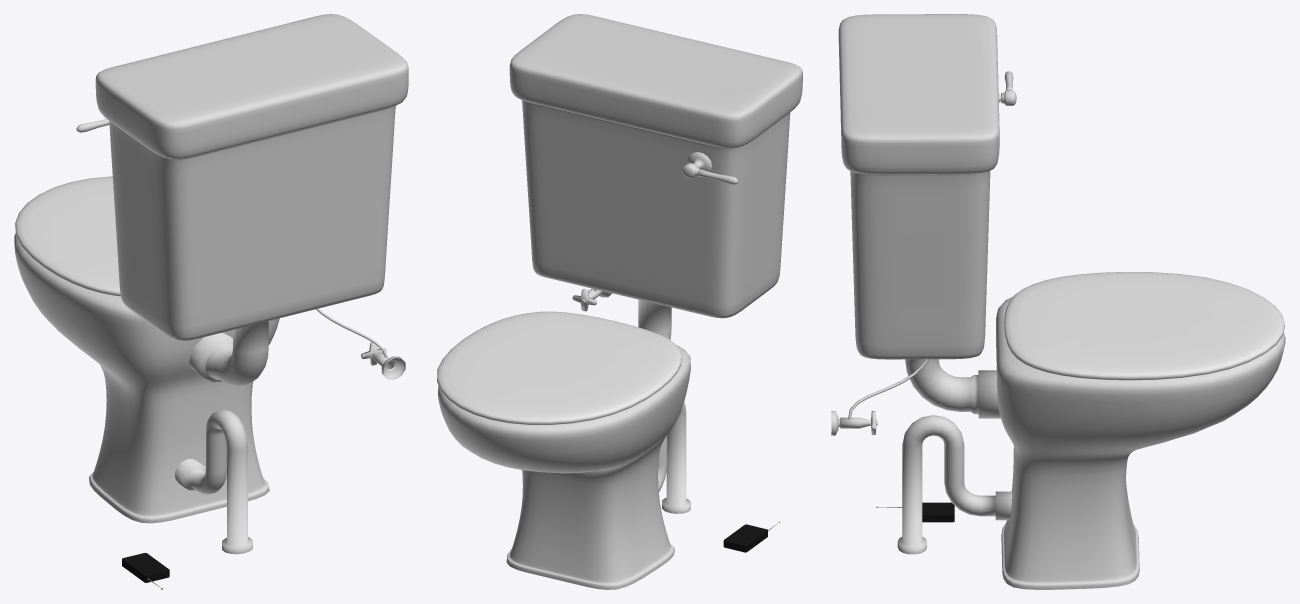
Rendered from toilet.glb.
3 renders of one model, left to right at view 1: azimuth 30°, elevation 25°; view 2: azimuth 150°, elevation 25°; view 3: azimuth 270°, elevation 25°, orthographic. The views are drawn at different scales.
Visible parts, largest first — view 1: Plane.156, Plane.158, Cone.001; view 2: Plane.156, Plane.158, Cone.001; view 3: Plane.156, Plane.158, Cone.001.
Part boxes in pixels (x1=…): Plane.156: x1=14, y1=14, x2=408, y2=554; Plane.158: x1=15, y1=176, x2=120, y2=296; Cone.001: x1=122, y1=553, x2=169, y2=589; Plane.156: x1=438, y1=14, x2=802, y2=589; Plane.158: x1=437, y1=311, x2=681, y2=424; Cone.001: x1=723, y1=521, x2=780, y2=552; Plane.156: x1=831, y1=14, x2=1285, y2=589; Plane.158: x1=1004, y1=272, x2=1284, y2=380; Cone.001: x1=876, y1=502, x2=954, y2=522.
Bounding box in the file's own units: 1.15 × 2.06 × 1.73.
Materials: 4 (1 with a texture image).
